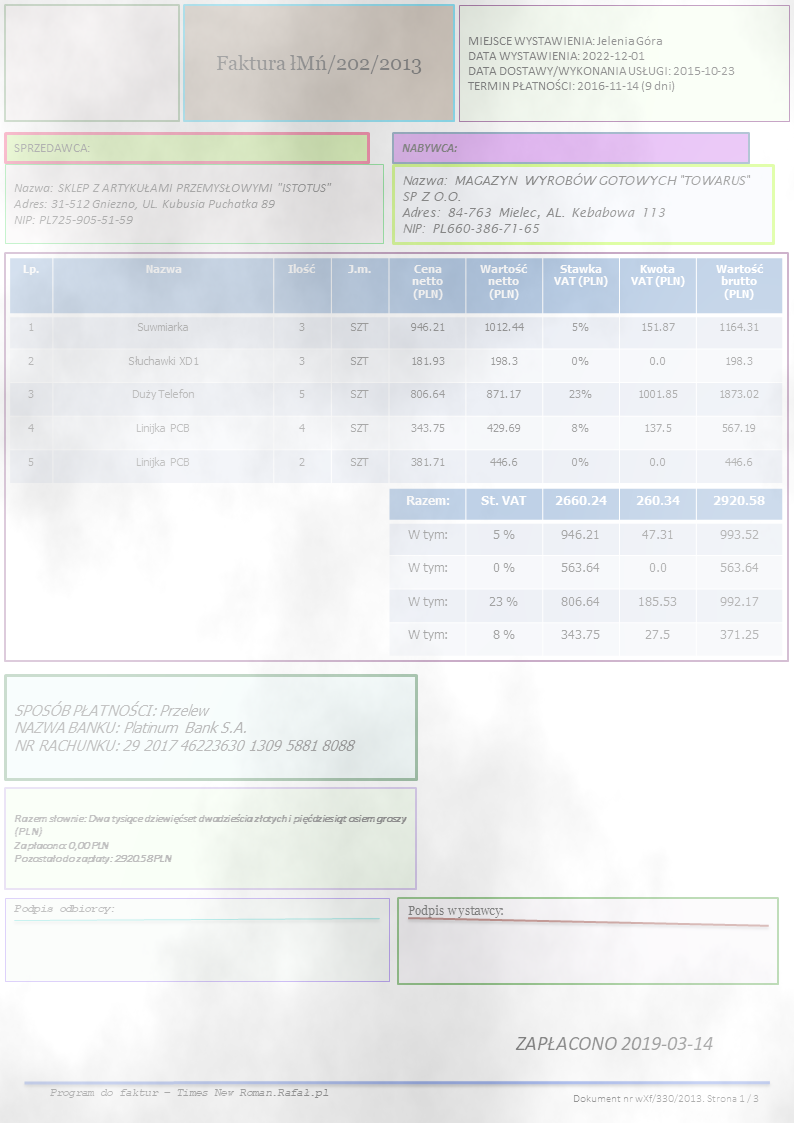Table: (8, 256, 782, 486), (388, 486, 783, 656)
TextBox: (400, 172, 752, 235), (12, 812, 409, 866), (12, 698, 357, 754), (465, 32, 737, 95), (11, 180, 334, 227), (213, 51, 422, 78), (513, 1032, 714, 1053), (49, 1086, 329, 1101), (570, 1091, 761, 1105), (407, 902, 505, 921), (11, 902, 115, 917), (12, 140, 90, 155), (400, 140, 458, 156)
